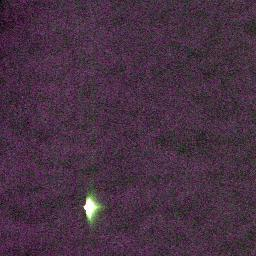Ship: (81, 193, 102, 218)
